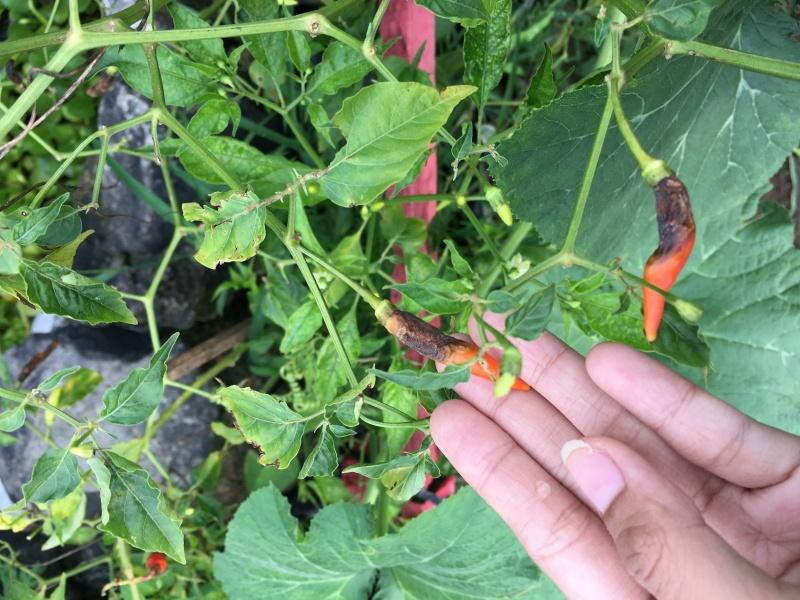antraknosa: (376, 298, 528, 396), (636, 164, 698, 340)
